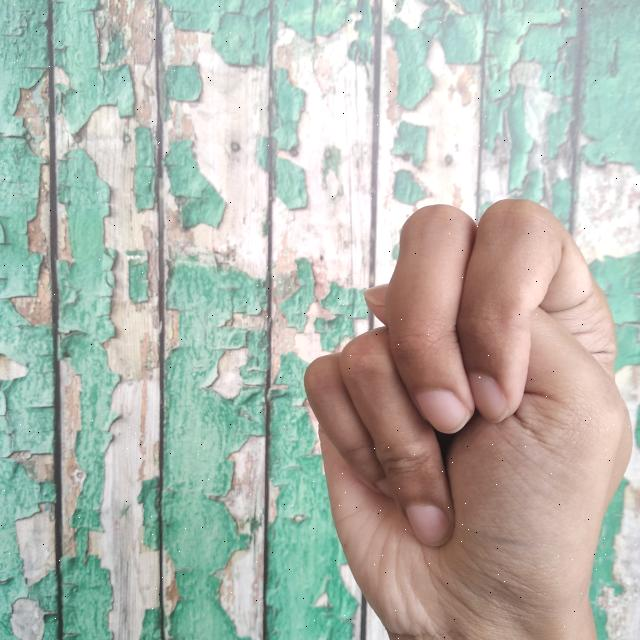N: (299, 189, 640, 640)
